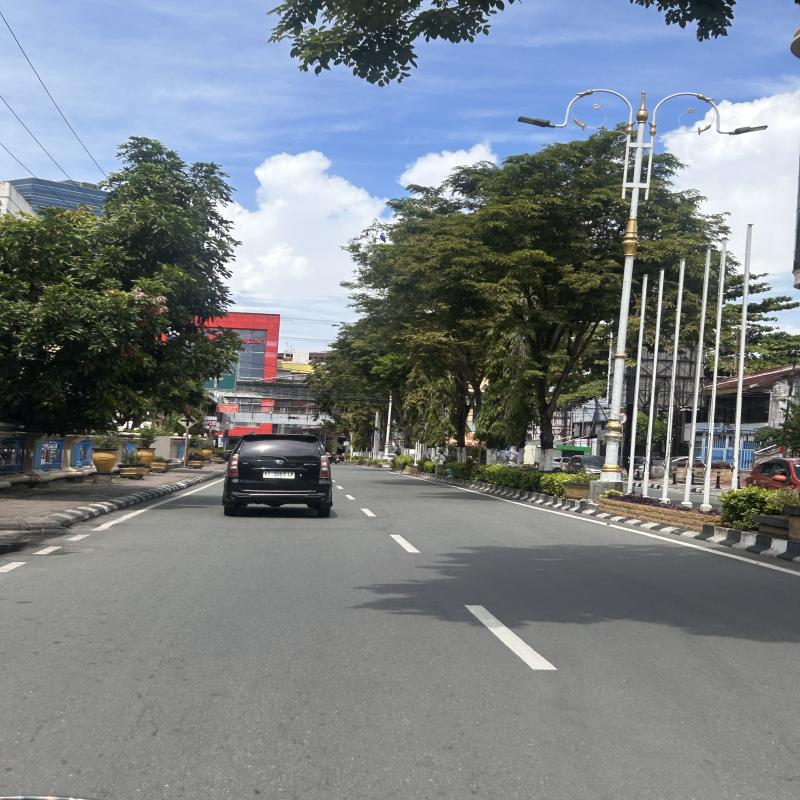license plate on a car: (263, 471, 295, 478)
